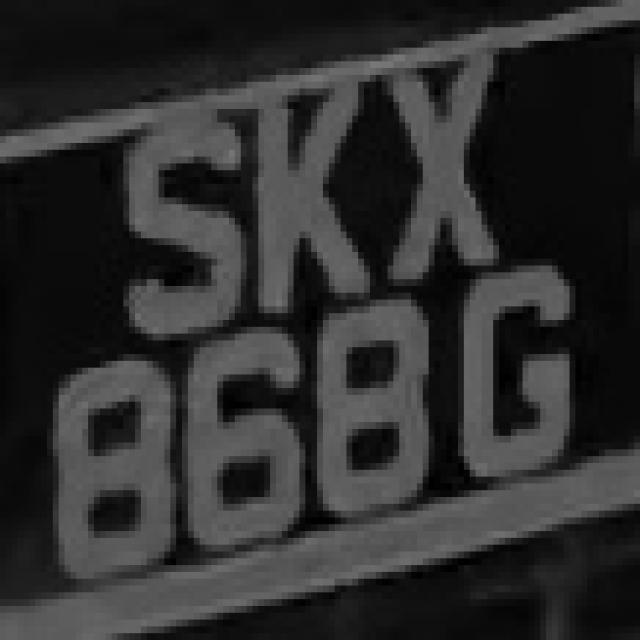6: (170, 327, 317, 558)
8: (29, 340, 188, 579), (306, 279, 440, 531)
G: (434, 252, 582, 504)
K: (235, 41, 382, 313)
S: (94, 82, 223, 354)
X: (364, 27, 528, 286)
